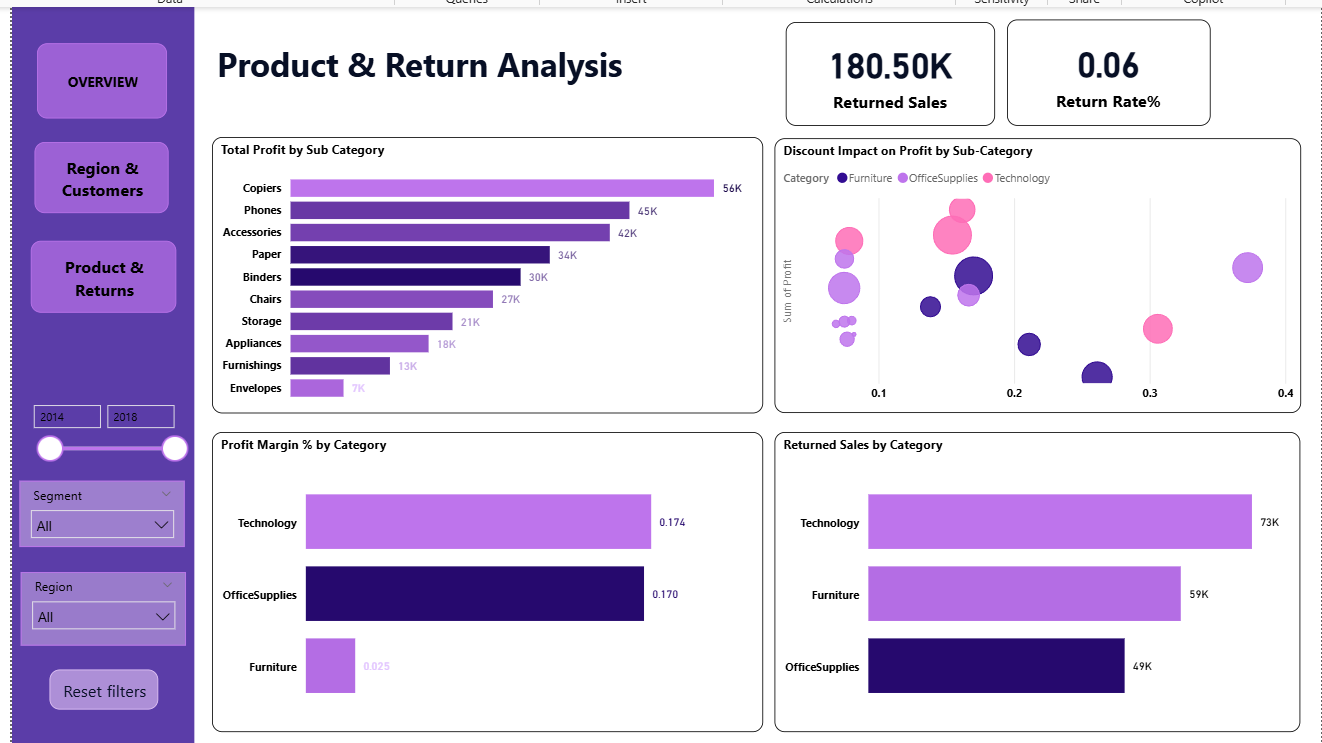

The page's visual inventory and layout, read from the dashboard file:
{"tool":"powerbi","page":{"name":"Product,Discount &return Analysis","canvas":[1280,720],"ordinal":2},"visuals":[{"type":"card","fields":{"Values":["Fact_sales.Return Rate%"]},"box":[974.3,12.3,199,104.3],"z":0,"group":"g1"},{"type":"clusteredBarChart","fields":{"Category":["Fact_sales.Category"],"Y":["Fact_sales.Profit Margin %"]},"box":[196.2,415.8,539.3,293.7],"z":0,"group":"g2"},{"type":"card","fields":{"Values":["Fact_sales.Returned Sales"]},"box":[757.5,15,204.5,101.5],"z":1000,"group":"g1"},{"type":"textbox","box":[196.2,28.8,447.3,75.5],"z":1000},{"type":"clusteredBarChart","fields":{"Category":["Fact_sales.Sub Category"],"Y":["Fact_sales.Total Profit"]},"box":[196.2,127.6,539.3,270.3],"z":1000,"group":"g2"},{"type":"scatterChart","title":"Discount Impact on Profit by Sub-Category","fields":{"X":["Avg(Fact_sales.Discount)"],"Y":["Sum(Fact_sales.Profit)"],"Size":["Sum(Fact_sales.Sales)"],"Category":["Fact_sales.Sub Category"],"Series":["Fact_sales.Category"]},"box":[745.9,128.4,514.8,269],"z":2000,"group":"g2"},{"type":"group","id":"g1","title":"Group 2","box":[757.5,12.3,415.8,104.3],"z":3000},{"type":"clusteredBarChart","fields":{"Category":["Fact_sales.Category"],"Y":["Fact_sales.Returned Sales"]},"box":[746.5,415.8,514.6,293.7],"z":3000,"group":"g2"},{"type":"group","id":"g2","title":"Group 3","box":[196.2,127.6,1064.8,581.8],"z":4000},{"type":"group","id":"g3","title":"Group 4","box":[0,0,179.9,720.4],"z":5001},{"type":"shape","box":[0,0,178.4,720.4],"z":7000,"group":"g3"},{"type":"slicer","fields":{"Values":["Fact_sales.Region"]},"box":[8.3,552.3,161.9,72],"z":8000,"group":"g3"},{"type":"slicer","fields":{"Values":["Fact_sales.Segment"]},"box":[6.9,463.7,161.9,65.1],"z":9000,"group":"g3"},{"type":"slicer","fields":{"Values":["Dim_Date.Year"]},"box":[8.3,379.2,171.6,84.4],"z":10000,"group":"g3"},{"type":"actionButton","box":[24.9,36,127.3,73.4],"z":11000,"group":"g3"},{"type":"actionButton","box":[22.1,131.5,131.5,69.2],"z":12000,"group":"g3"},{"type":"actionButton","box":[18,228.4,142.6,70.6],"z":13000,"group":"g3"},{"type":"actionButton","box":[36.1,648.6,106.7,39.6],"z":15000,"group":"g3"}]}

Visuals, with their boxes on the page's 1280x720 design canvas (x1, y1, x2, y2). These are canvas units, not pixel positions in the 1322x743 screenshot, which may show the page scaled, cropped or inside an application window:
card - Fact_sales.Return Rate%: [x1=974, y1=12, x2=1173, y2=117]
clusteredBarChart - Fact_sales.Category x Fact_sales.Profit Margin %: [x1=196, y1=416, x2=736, y2=710]
card - Fact_sales.Returned Sales: [x1=758, y1=15, x2=962, y2=116]
textbox: [x1=196, y1=29, x2=644, y2=104]
clusteredBarChart - Fact_sales.Sub Category x Fact_sales.Total Profit: [x1=196, y1=128, x2=736, y2=398]
"Discount Impact on Profit by Sub-Category" scatterChart: [x1=746, y1=128, x2=1261, y2=397]
"Group 2" group: [x1=758, y1=12, x2=1173, y2=117]
clusteredBarChart - Fact_sales.Category x Fact_sales.Returned Sales: [x1=746, y1=416, x2=1261, y2=710]
"Group 3" group: [x1=196, y1=128, x2=1261, y2=709]
"Group 4" group: [x1=0, y1=0, x2=180, y2=720]
shape: [x1=0, y1=0, x2=178, y2=720]
slicer - Fact_sales.Region: [x1=8, y1=552, x2=170, y2=624]
slicer - Fact_sales.Segment: [x1=7, y1=464, x2=169, y2=529]
slicer - Dim_Date.Year: [x1=8, y1=379, x2=180, y2=464]
actionButton: [x1=25, y1=36, x2=152, y2=109]
actionButton: [x1=22, y1=132, x2=154, y2=201]
actionButton: [x1=18, y1=228, x2=161, y2=299]
actionButton: [x1=36, y1=649, x2=143, y2=688]
